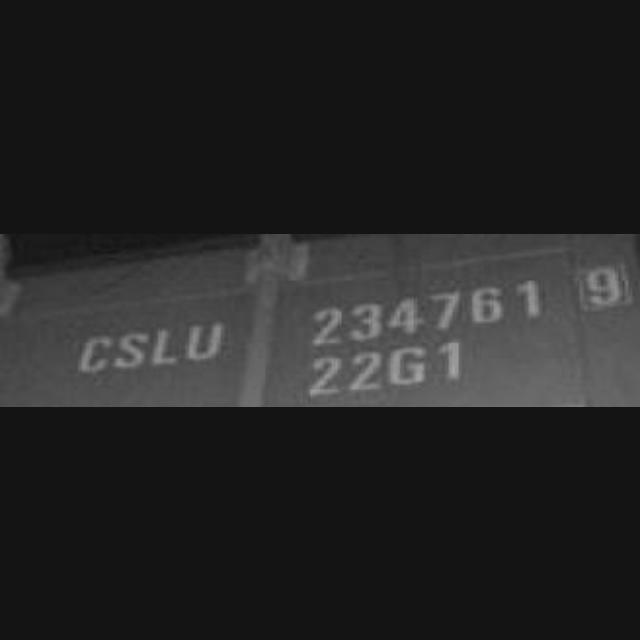1: (432, 330, 470, 390), (516, 270, 550, 326)
2: (299, 300, 347, 352), (344, 345, 384, 399), (305, 350, 345, 400)
3: (348, 297, 384, 345)
4: (385, 288, 427, 344)
6: (468, 282, 506, 328)
7: (426, 283, 462, 335)
9: (579, 262, 625, 308)
c: (76, 327, 114, 379)
g: (382, 340, 428, 392)
l: (149, 322, 181, 372)
s: (114, 328, 150, 372)
u: (183, 316, 224, 364)
